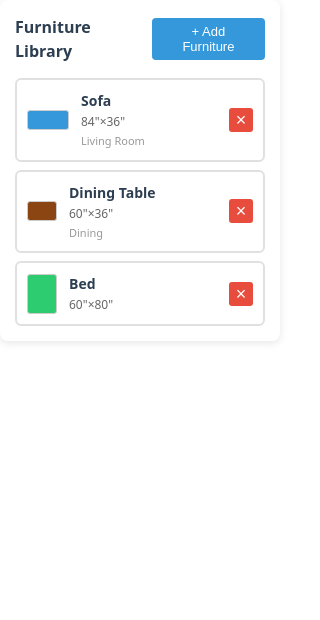
it: FurnitureLibrary › shows add form when add button is clicked
Click the button "+ Add Furniture": (208, 39) [152, 18, 265, 60]
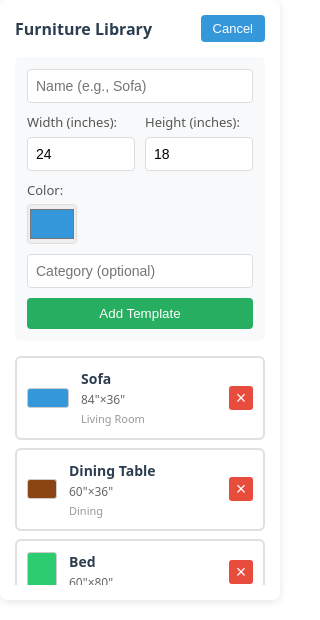
Result: the field with placeholder "Name (e.g., Sofa)" is shown at [27, 69, 253, 103]
Result: the text "Width (inches):" is shown at [27, 113, 135, 170]
Result: the text "Height (inches):" is shown at [145, 113, 253, 170]
